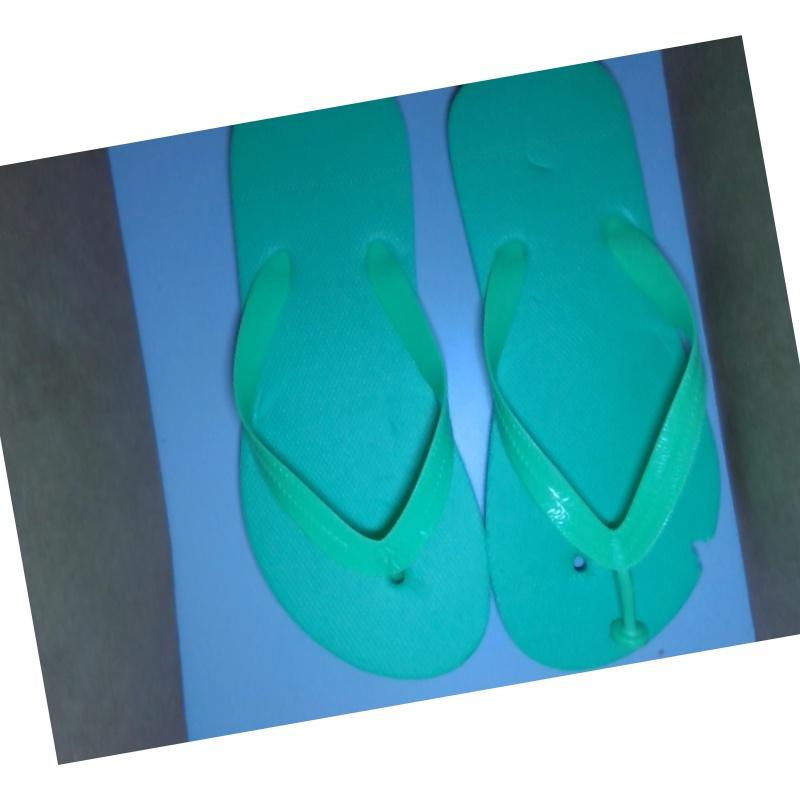chipped: (681, 522, 723, 596)
detached: (605, 594, 658, 659)
